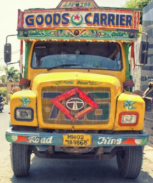truck: (2, 1, 145, 179)
